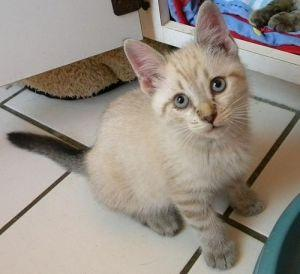siamese: (115, 1, 258, 143)
